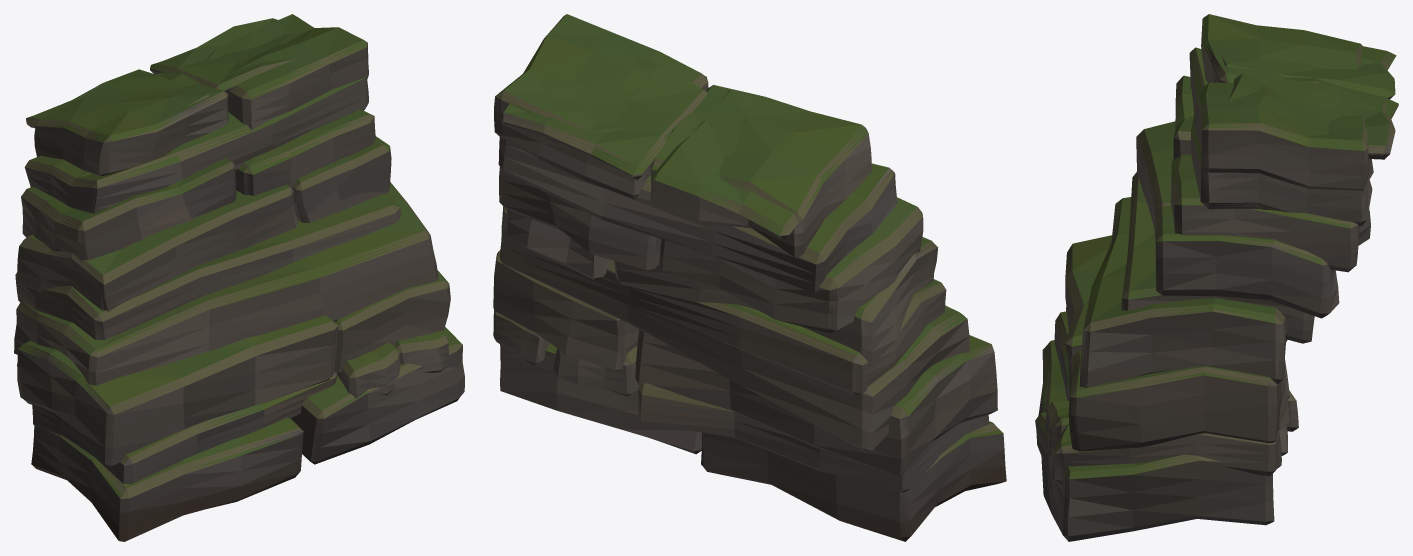
The model's file is cliff_strata_wide.glb.
3 views of the same model, side by side, from view 1: azimuth 30°, elevation 25°; view 2: azimuth 150°, elevation 25°; view 3: azimuth 270°, elevation 25° (orthographic). The views are drawn at different scales.
Parts seen in each view (by area): view 1: cliff_strata_wide; view 2: cliff_strata_wide; view 3: cliff_strata_wide.
Boxes of the visible parts, bbox=[...] form: cliff_strata_wide: bbox=[14, 14, 464, 541]; cliff_strata_wide: bbox=[493, 14, 1006, 541]; cliff_strata_wide: bbox=[1035, 14, 1398, 541].
Size of the model in its own units: 8.61 by 8.56 by 6.13.
